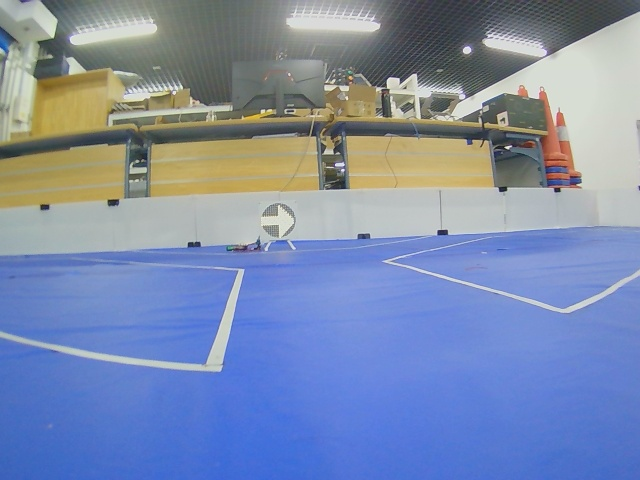right_yellow: (261, 203, 296, 238)
